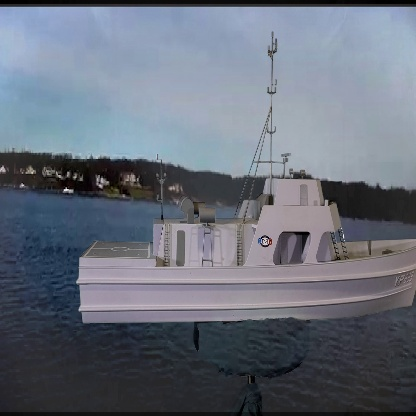YP689: (80, 30, 416, 323)
